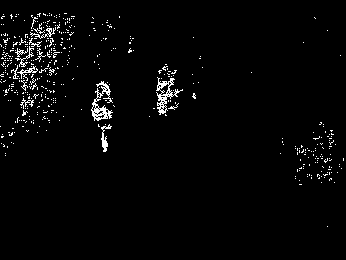person: (92, 81, 118, 153)
